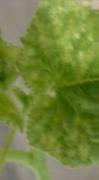Tomato leaf mosaic virus: (27, 0, 99, 162)
